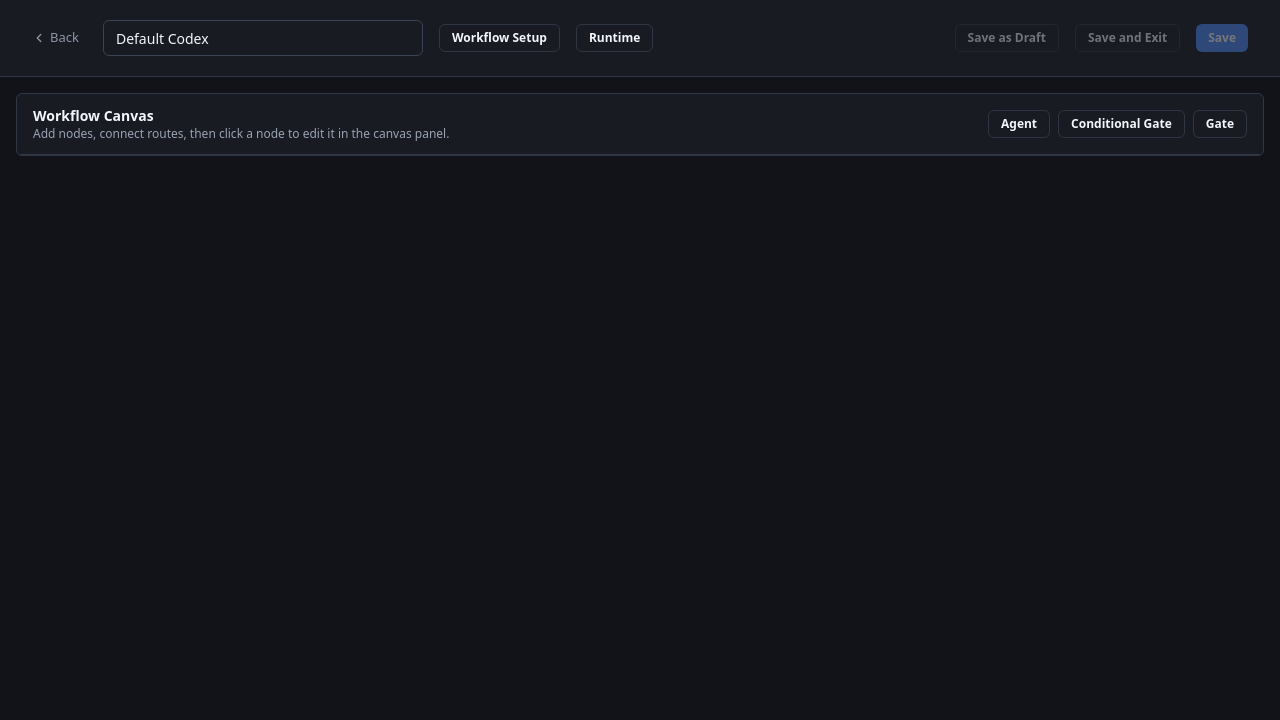
Test: WorkflowEditor › uses the built-in worktree setup until custom setup is enabled
This screenshot has width=1280, height=720.
Expected: the field showing "Default Codex" is shown, [103,20,423,56]
Click the button "Workflow Setup". click: click(499, 38)
box: [439,24,560,52]
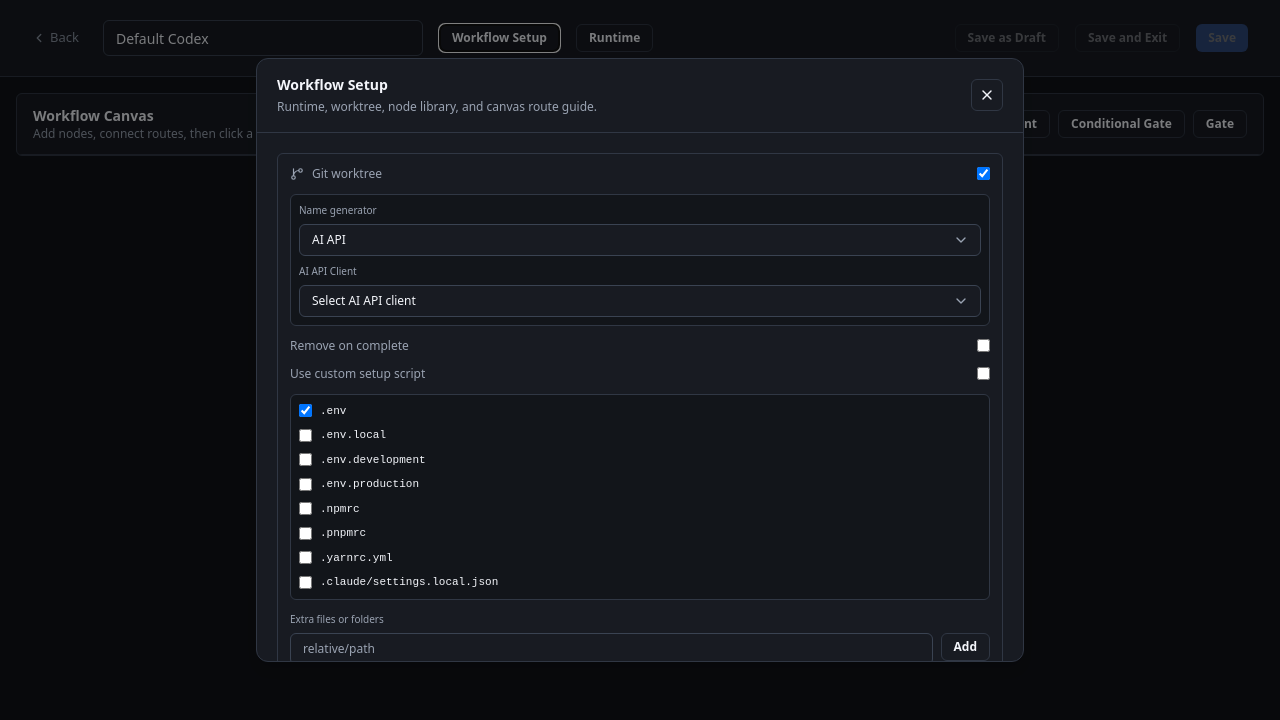
Expected: the field with placeholder "pnpm install" is not shown
Expected: the text ".env" is shown, [320,405,346,417]
Expected: the text "Use custom setup script" is shown, [290,366,990,382]
Click the checkbox labelled "Use custom setup script". click: click(984, 374)
box: [977,367,990,380]
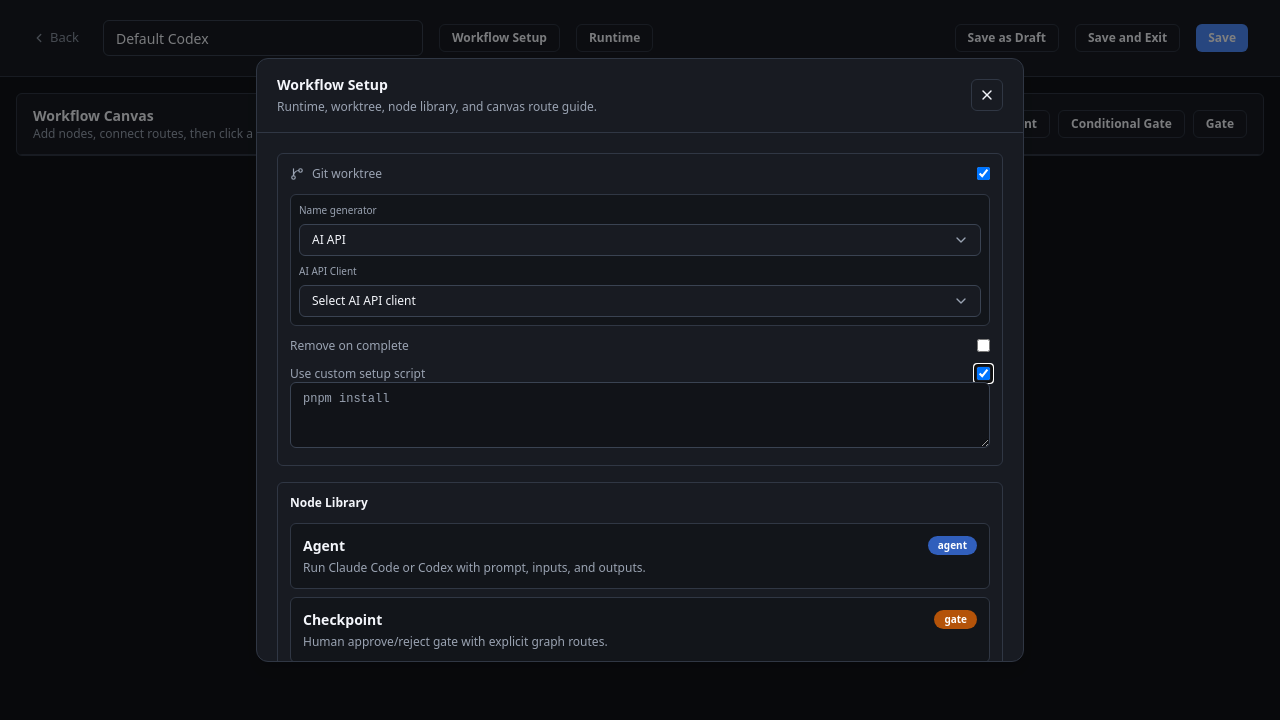
Expected: the text ".env" is gone
Expected: the text box with placeholder "pnpm install" is shown, [290,382,990,448]
